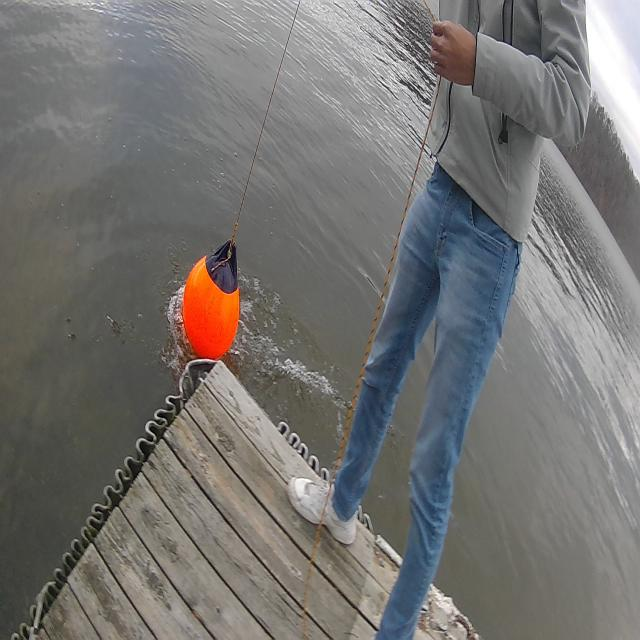Buoy: (182, 255, 240, 361)
